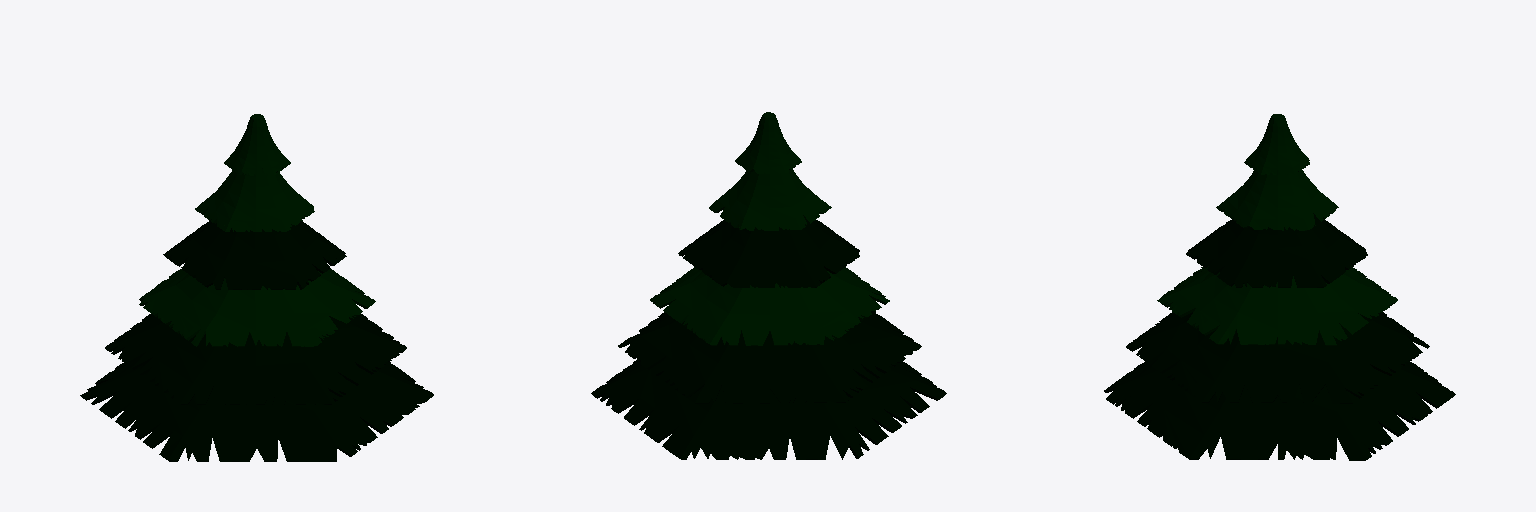
The model's file is cone_tier_6.obj.
3 views of the same model, side by side, from view 1: azimuth 30°, elevation 25°; view 2: azimuth 150°, elevation 25°; view 3: azimuth 270°, elevation 25° (orthographic).
Parts seen in each view (by area): view 1: cone_tier_6; view 2: cone_tier_6; view 3: cone_tier_6.
Part boxes in pixels (bbox=[...]): cone_tier_6: bbox=[80, 114, 433, 461]; cone_tier_6: bbox=[591, 112, 946, 459]; cone_tier_6: bbox=[1104, 114, 1455, 460].
Bounding box in the file's own units: 0.3064 × 0.3063 × 0.3485.